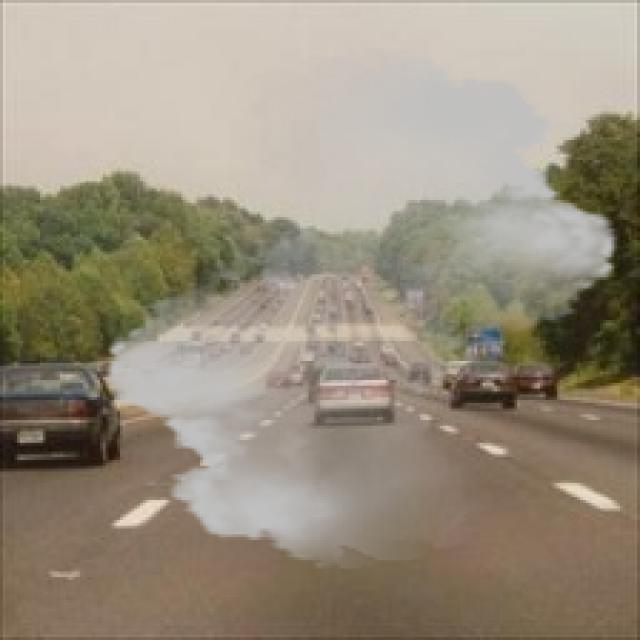smoke: (89, 49, 634, 568)
